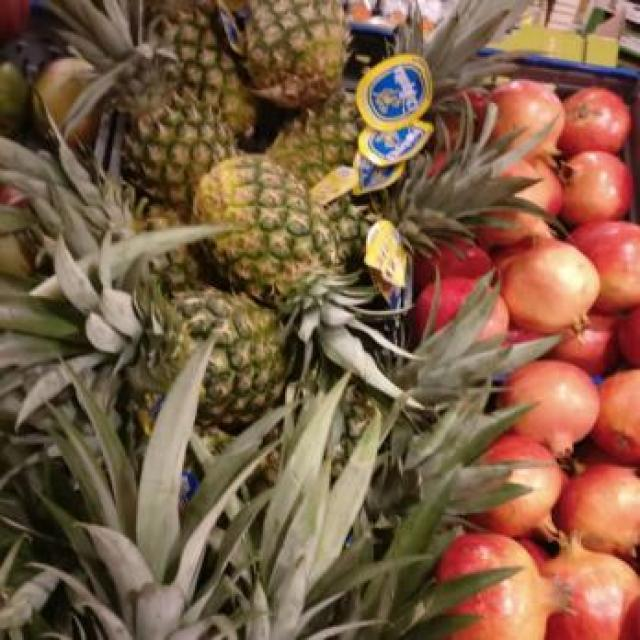pineapple: (46, 340, 284, 640), (194, 155, 400, 396), (31, 240, 284, 428), (50, 0, 235, 209), (218, 0, 348, 108), (395, 0, 526, 99), (175, 10, 254, 147), (269, 90, 361, 186)
